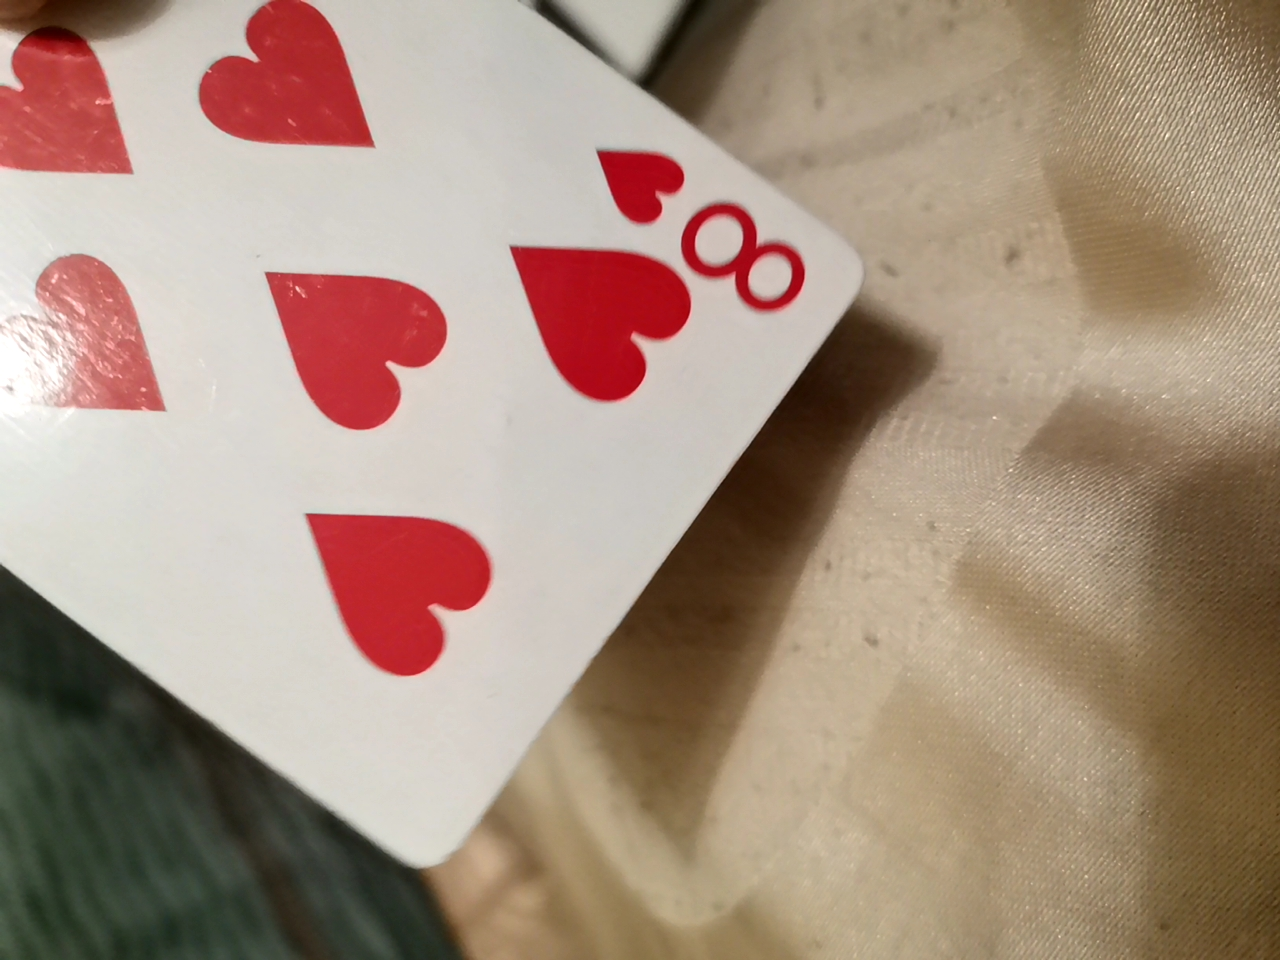hx 8: (0, 18, 906, 892)
